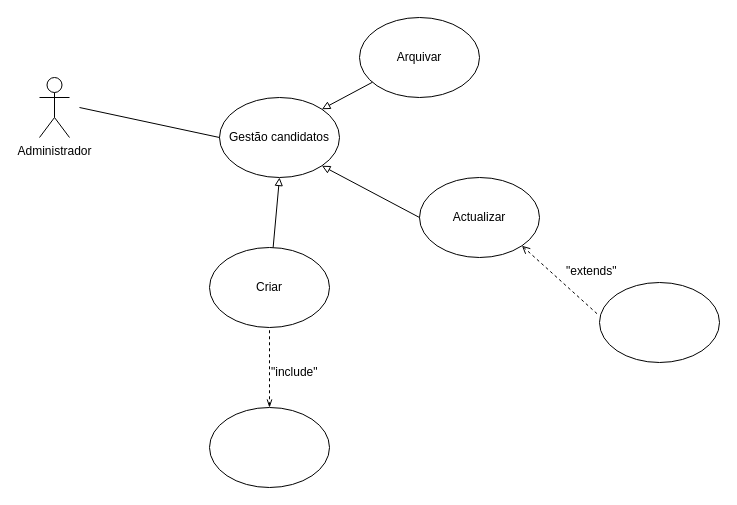
Image size: 737x505. Some labels were removed from this diagram. The centre of each missing label's shape, as x and y in pixels:
"Adicionar resultados provas" belongs at point (659, 322).
"Registar dados do email" belongs at point (269, 447).
